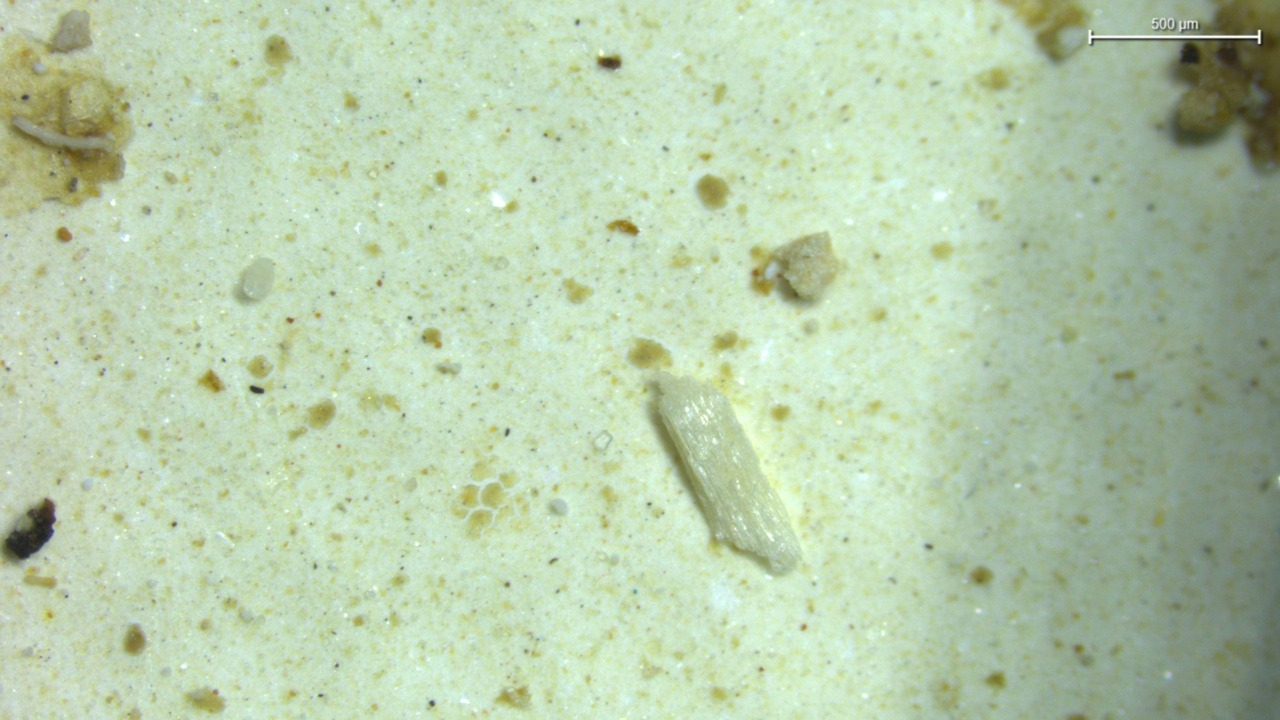microplastic_fragment: (651, 372, 801, 572), (776, 232, 842, 301), (52, 10, 92, 52), (239, 258, 275, 301)
